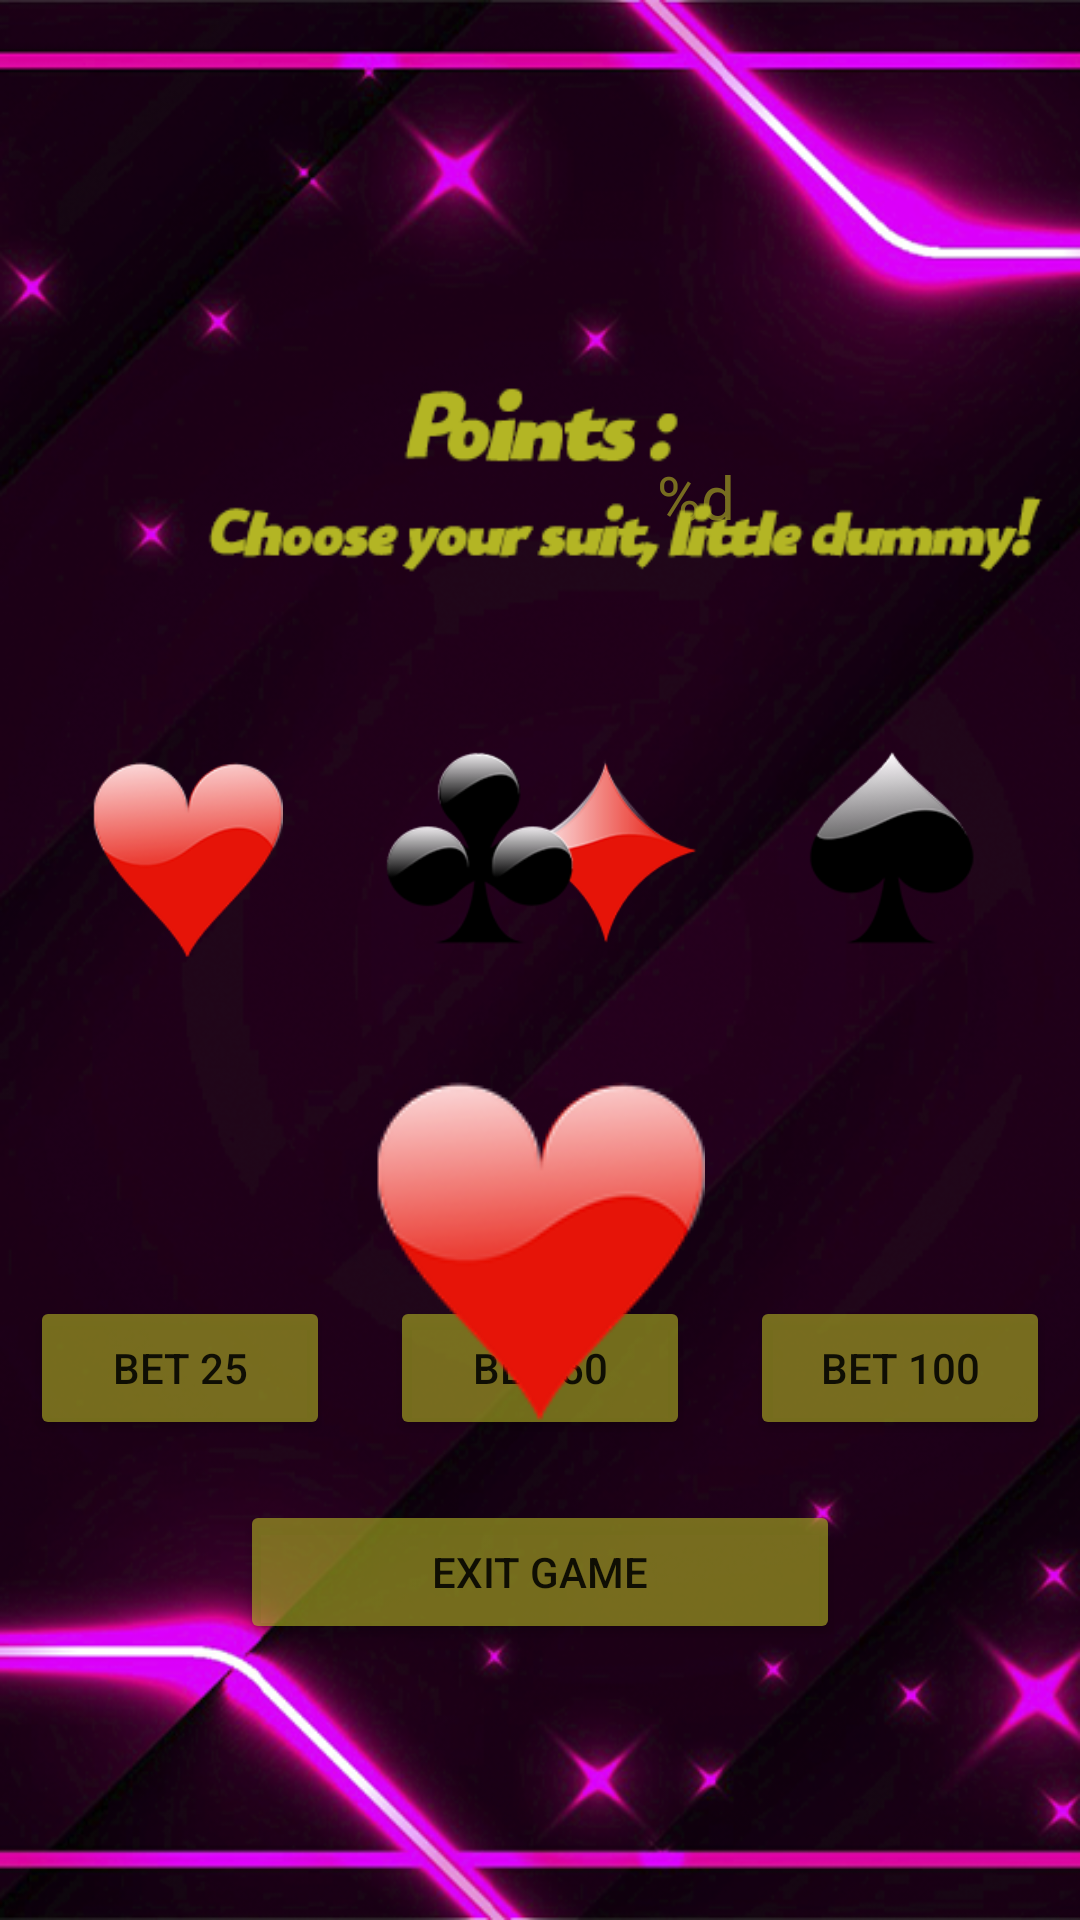

Icons on this 1080x1920 Android screen, each with the point to tap as point (x, y):
heart: point (188, 859), point (541, 1254)
pika: point (892, 839)
trefa: point (489, 847)
